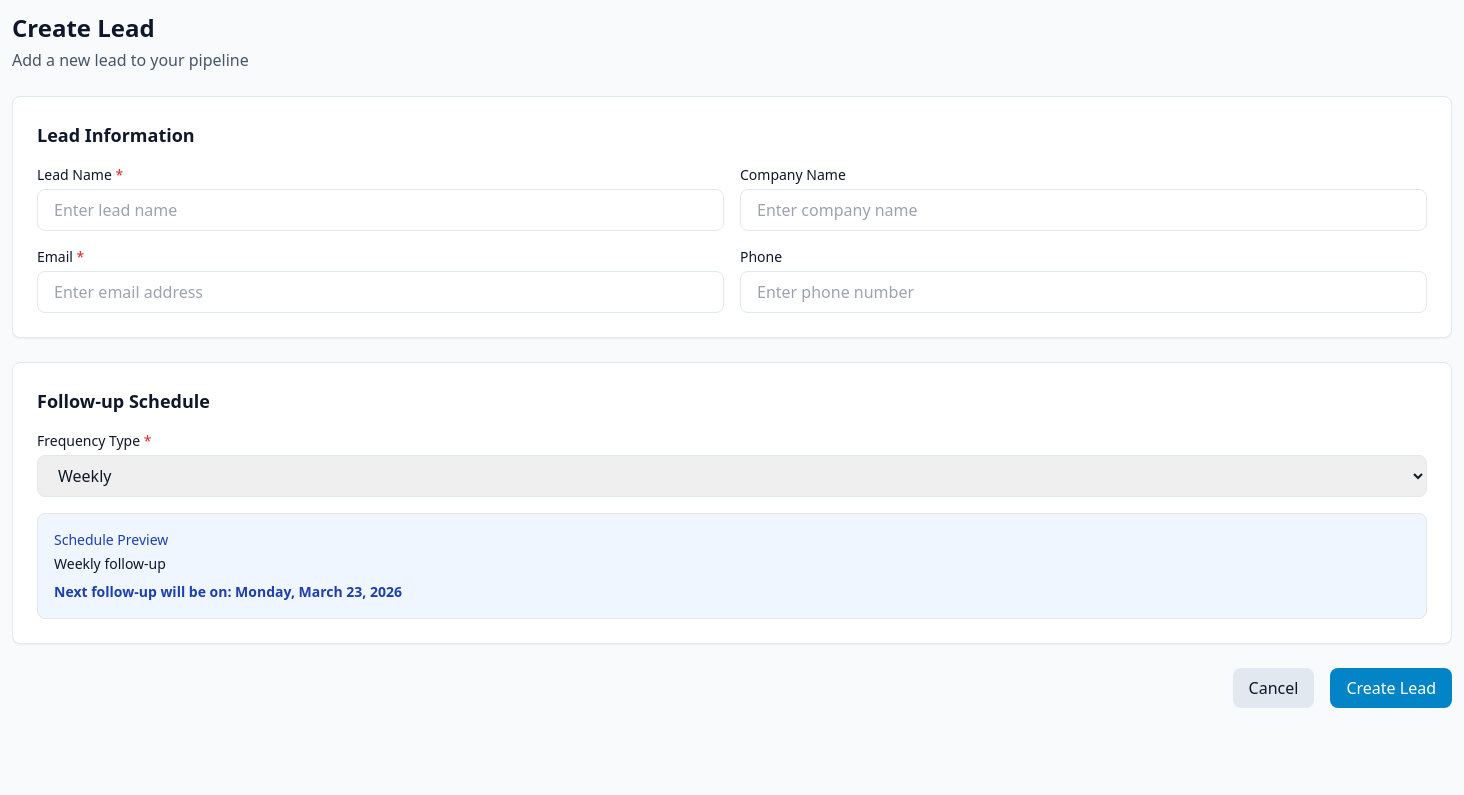
CreateLead › Form Validation › shows validation error for invalid email
The image size is (1464, 795).
Type "invalid-email" into the field labelled "Email *".
click(380, 292); type("invalid-email")  # box [37,271,724,313]
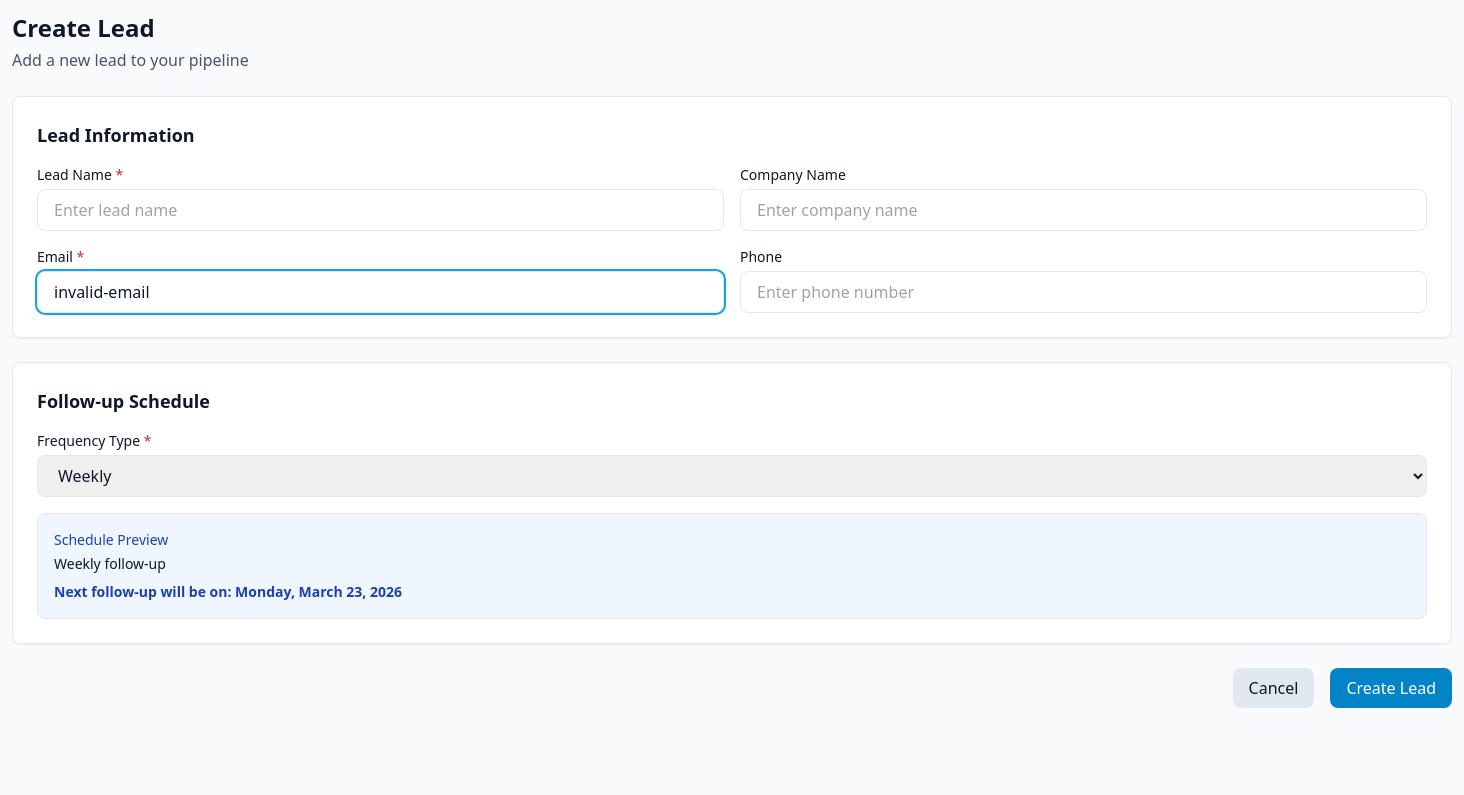
Click the button "Create Lead".
click(1391, 688)  # box [1330,668,1452,708]
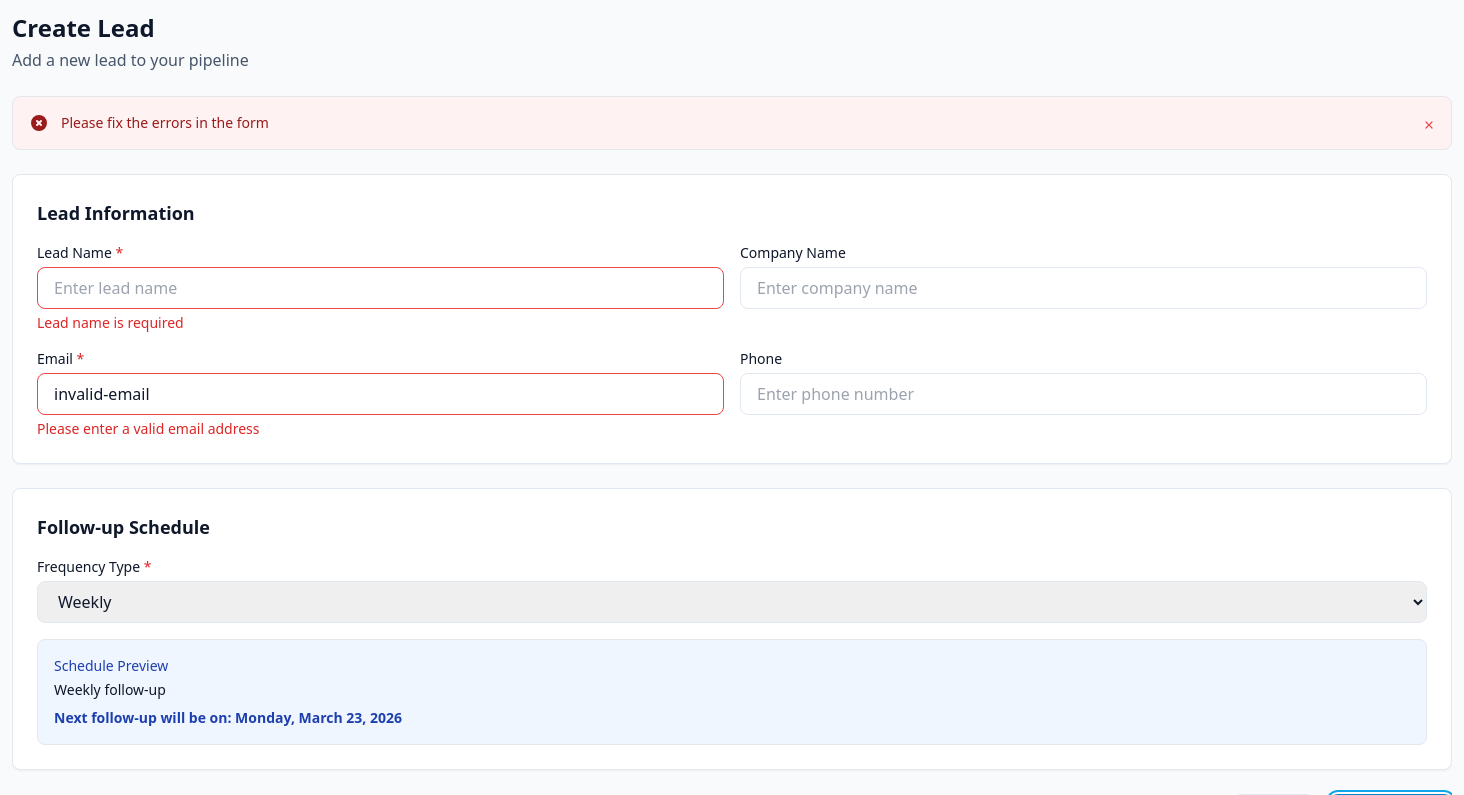
Check: the text "Please enter a valid email address" is shown, box [37,419,260,438]
